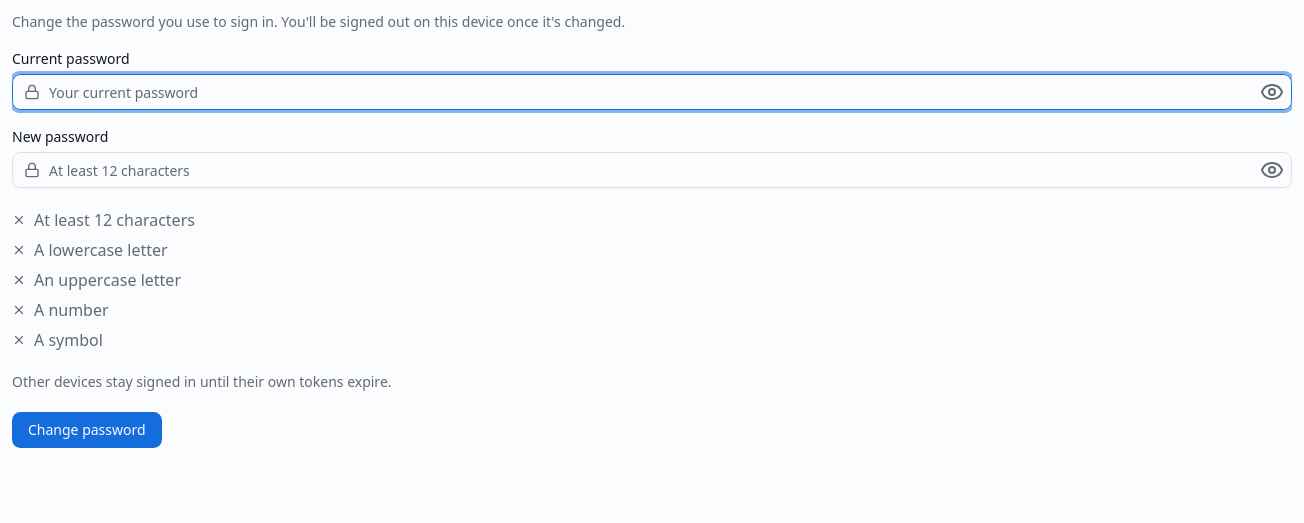
it: ChangePasswordForm › re-words a wrong current password instead of showing the login copy
Type "not-the-password" into the password field labelled "Current password".
click(652, 92); type("not-the-password")  # box [12,74,1292,110]
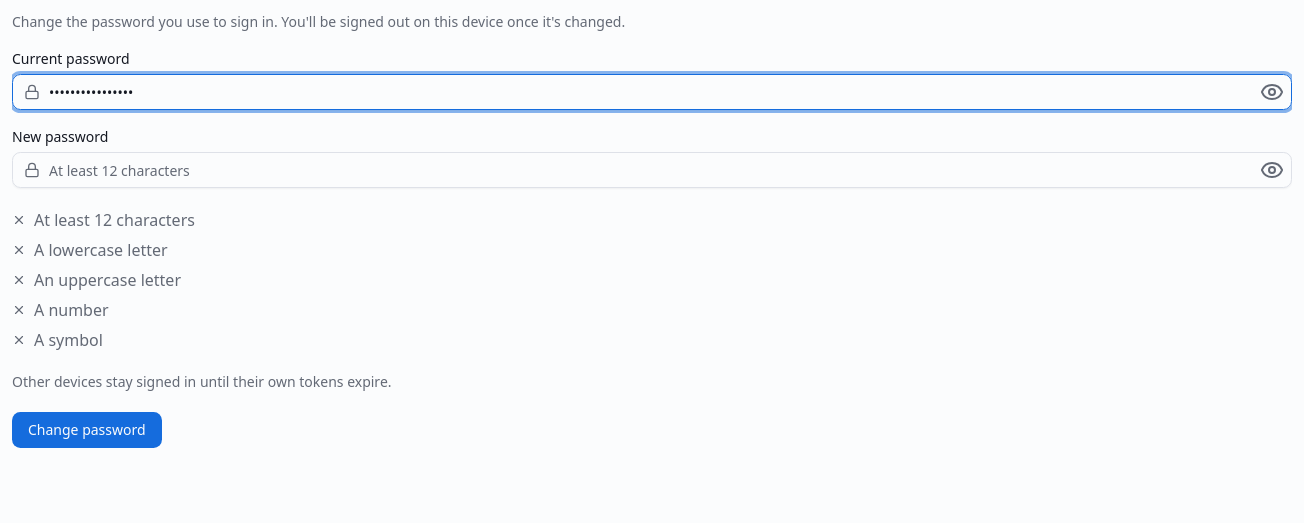
Type "AnotherPassw0rd!" into the password field labelled "New password".
click(652, 170); type("AnotherPassw0rd!")  # box [12,152,1292,188]
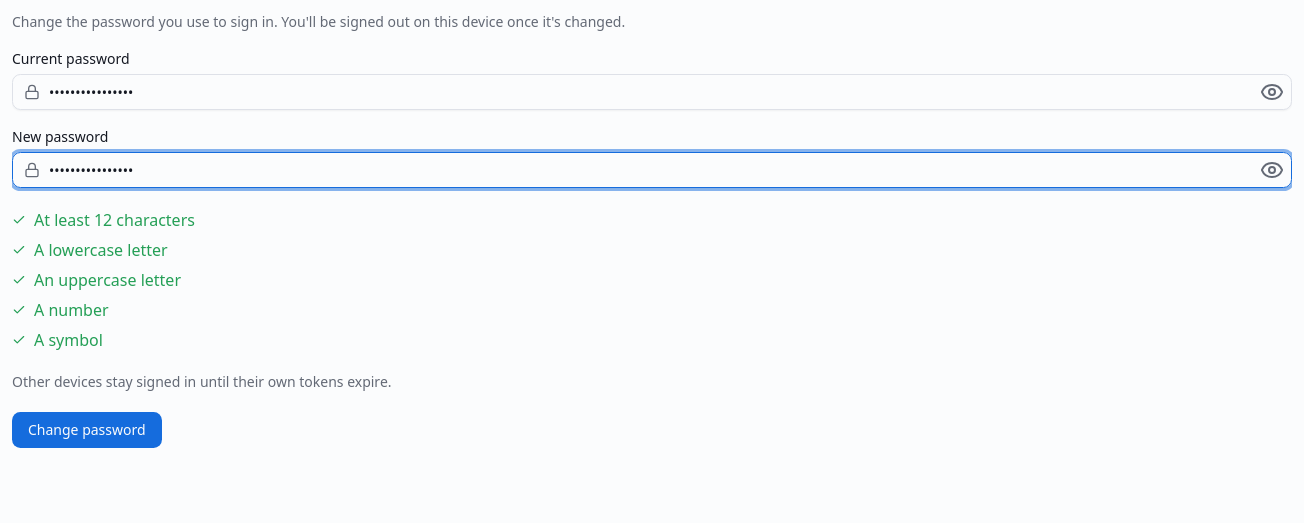
Click the button "Change password".
click(87, 430)  # box [12,412,162,448]
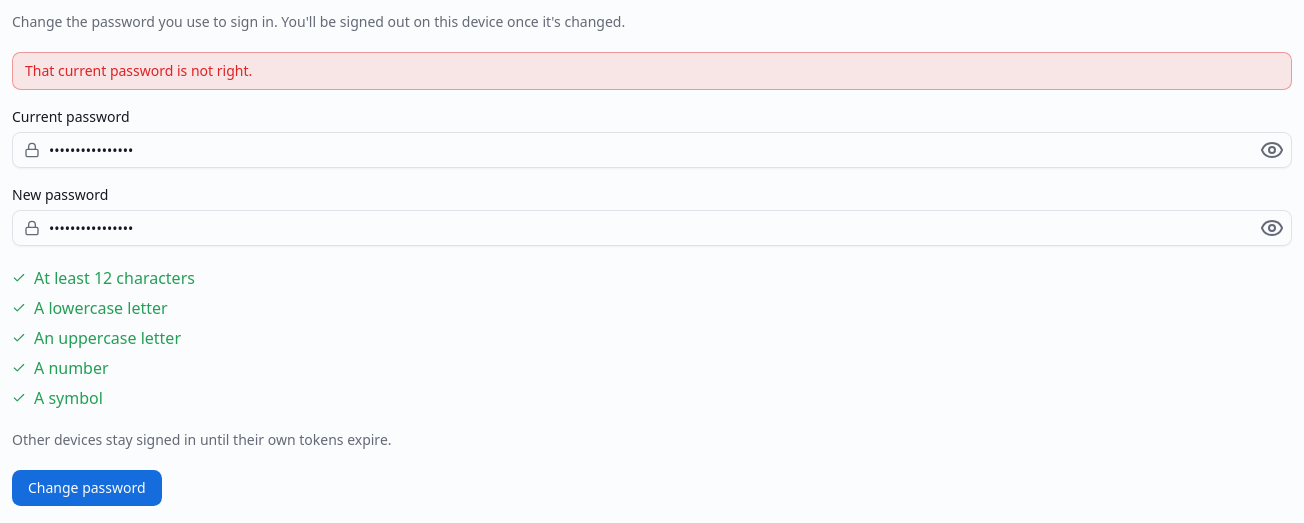
Expected: the message reads "That current password is not right.", [25,61,252,80]
